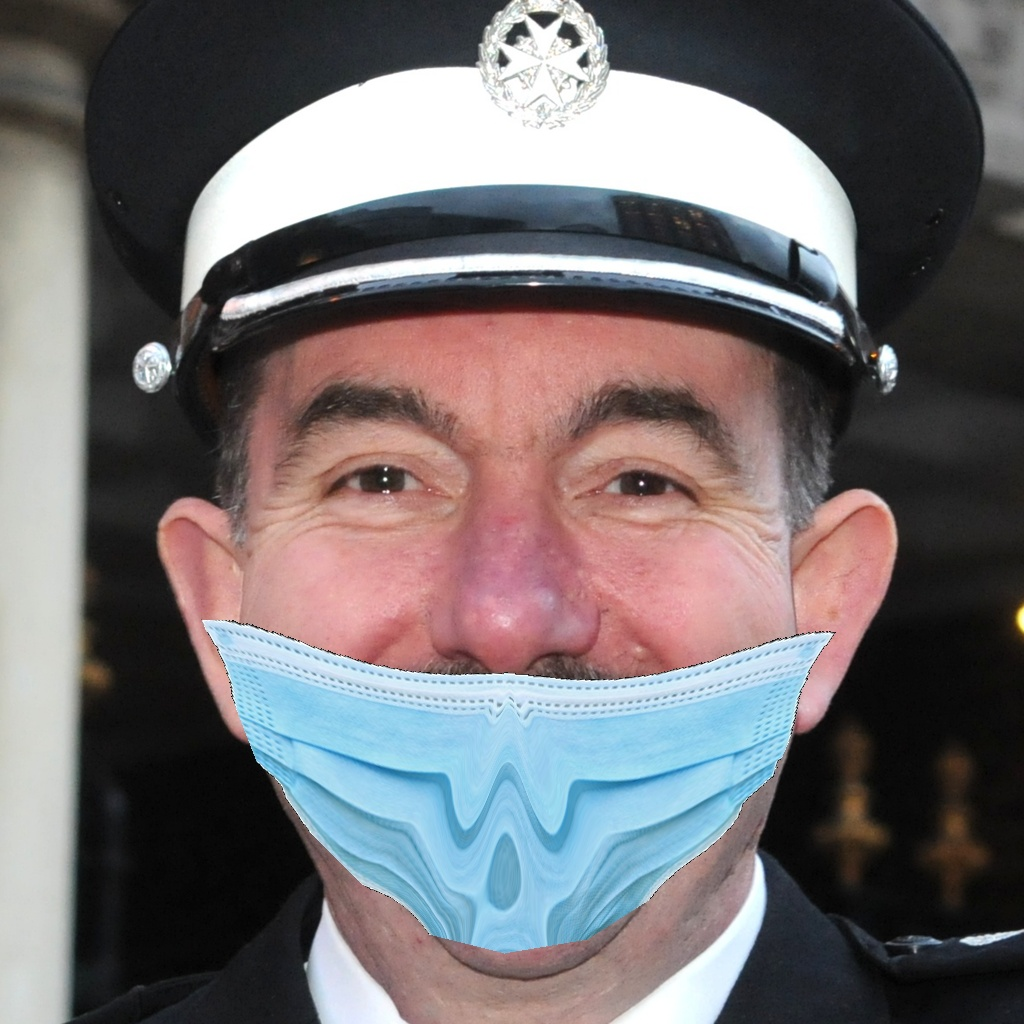mascarilla_mal_puesta: (149, 338, 769, 958)
